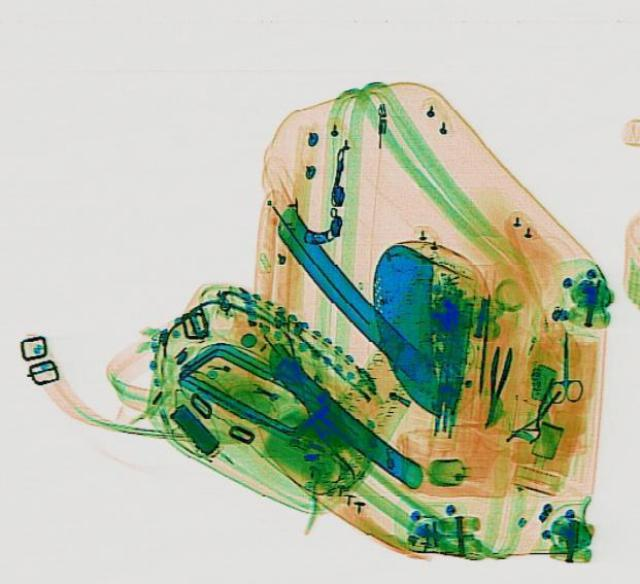Scissors: (543, 328, 581, 399)
